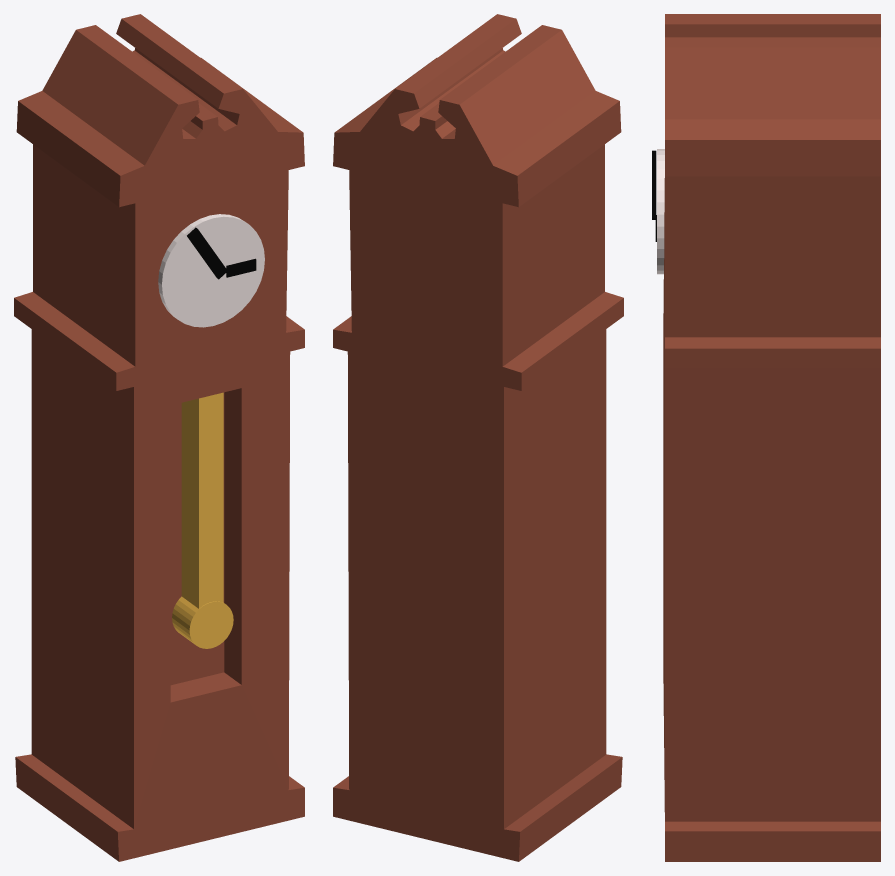
File: Clock.fbx
The picture shows the model from 3 angles, left to right: view 1: azimuth 30°, elevation 25°; view 2: azimuth 150°, elevation 25°; view 3: azimuth 270°, elevation 25°; orthographic projection. The views are drawn at different scales.
Parts seen in each view (by area): view 1: Clock; view 2: Clock; view 3: Clock.
Boxes of the visible parts, x1=… form: Clock: x1=14, y1=14, x2=304, y2=861; Clock: x1=333, y1=14, x2=623, y2=861; Clock: x1=652, y1=14, x2=880, y2=861.
Size of the model in its own units: 53.13 by 200 by 52.97.
